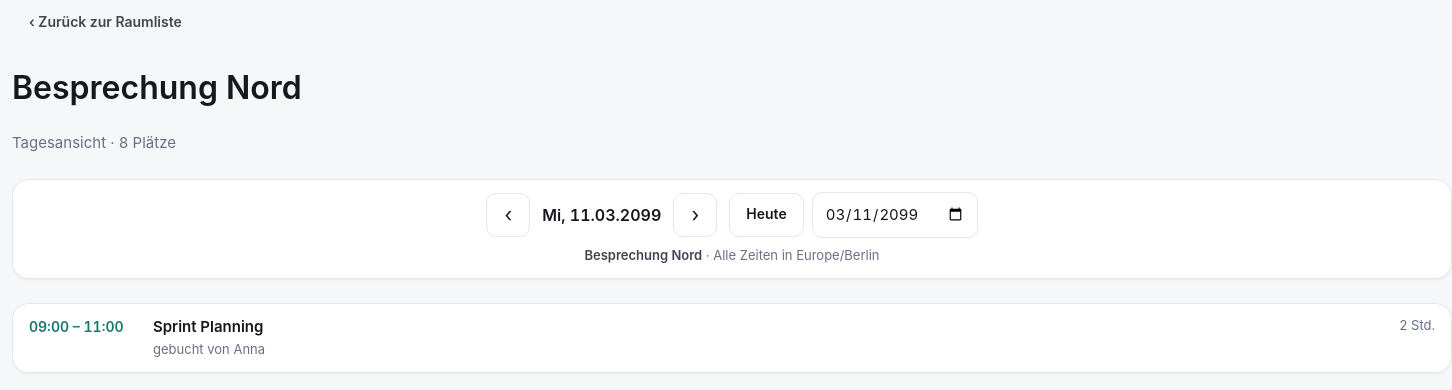
Test: RoomDayPage › reloads the bookings when the date changes
Expected: the text "Sprint Planning" is shown, x1=153 y1=316 x2=263 y2=336
Click the button named "Nächster Tag". click: x=695, y=215
box: x1=673 y1=193 x2=717 y2=237
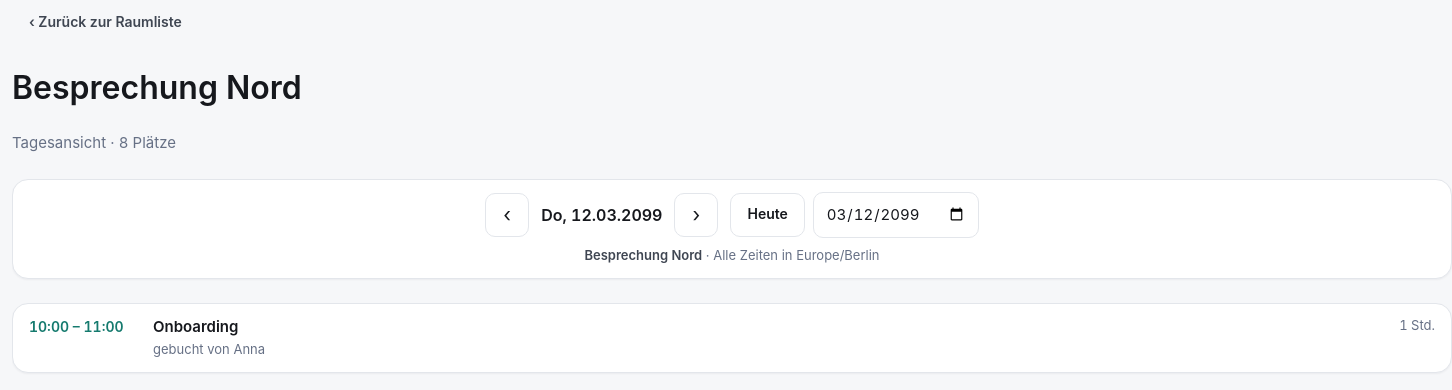
Expected: the text "Onboarding" is shown, x1=153 y1=316 x2=238 y2=336
Expected: the text "Sprint Planning" is gone
Expected: the text "Do, 12.03.2099" is shown, x1=541 y1=203 x2=662 y2=227
